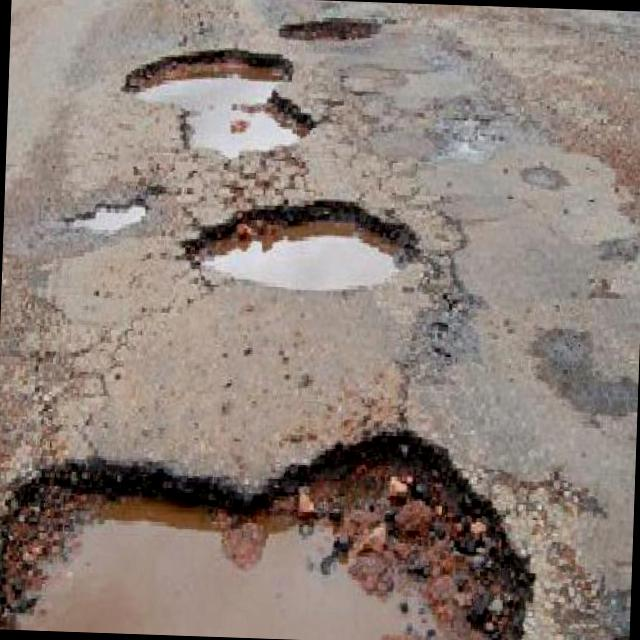pothole: (0, 408, 539, 640), (173, 186, 424, 292), (118, 40, 318, 158), (276, 13, 384, 45), (64, 194, 149, 233)
